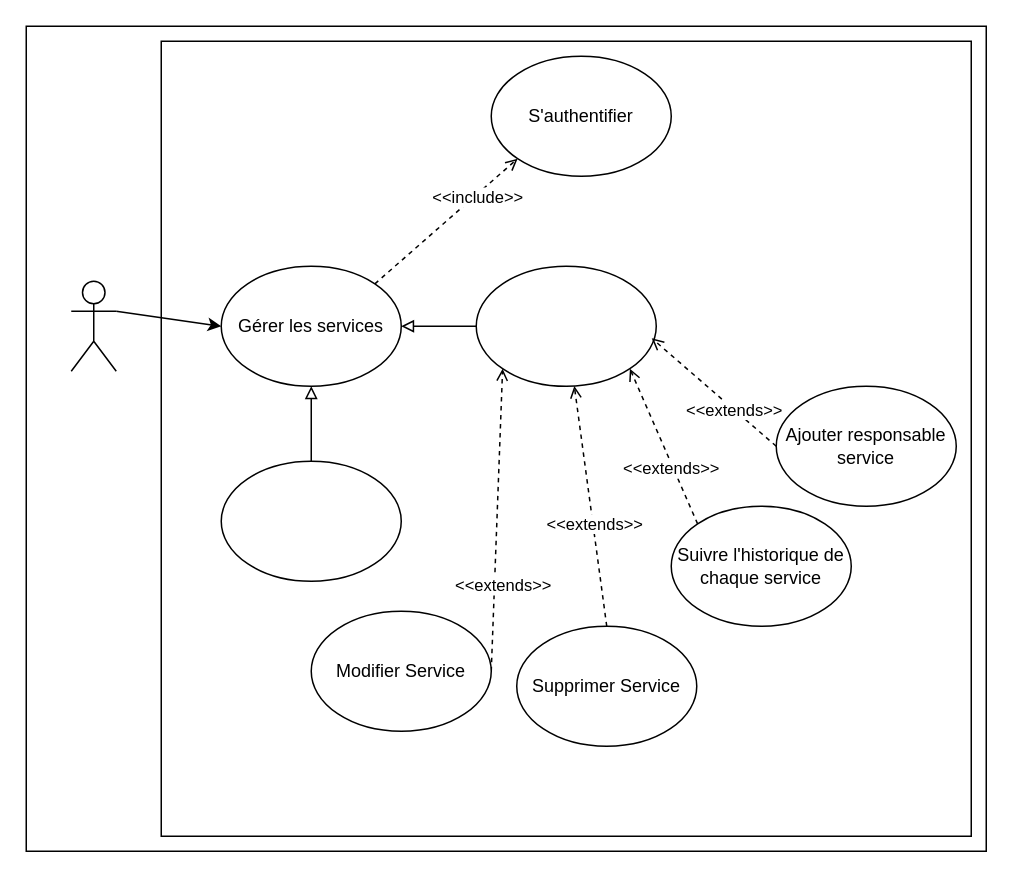
This 1013x878 diagram has some shape labels left out. Each missing label, with the box of its shape:
Ajouter Service: (220, 460, 401, 581)
Consulter service: (475, 265, 656, 386)
Réceptioniste: (70, 280, 116, 371)
